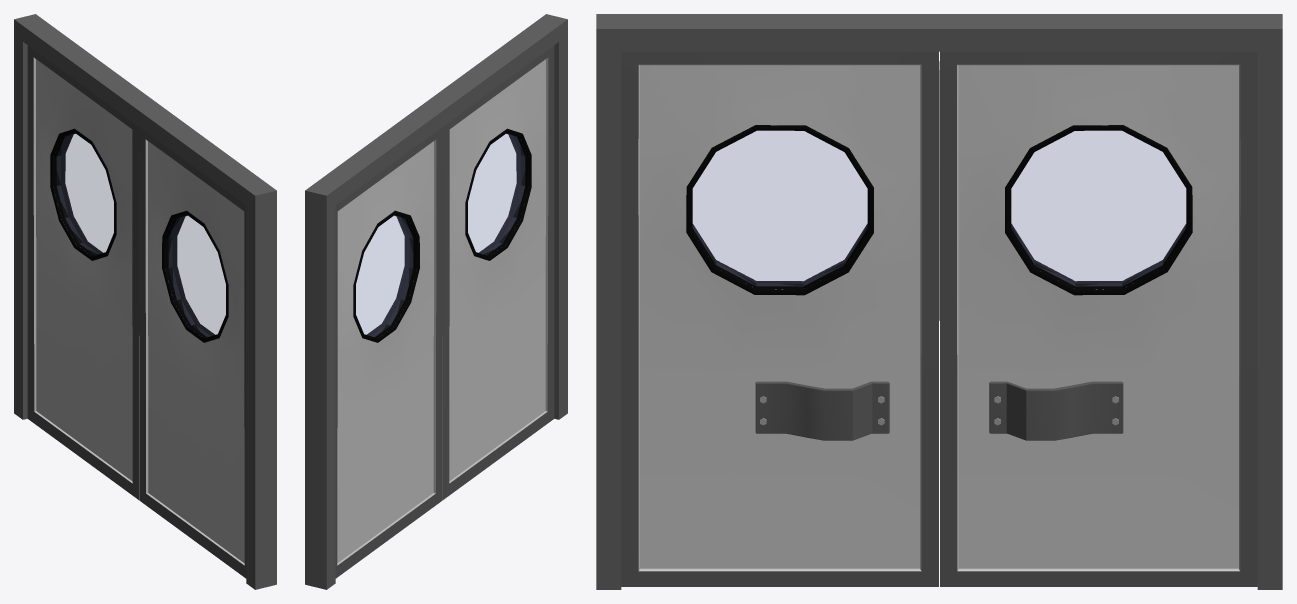
File: door.fbx
3 views of the same model, side by side, from view 1: azimuth 30°, elevation 25°; view 2: azimuth 150°, elevation 25°; view 3: azimuth 270°, elevation 25° (orthographic). The views are drawn at different scales.
Visible parts, largest first — view 1: kapı1, kapı2, cerceve; view 2: kapı2, kapı1, cerceve; view 3: kapı1, kapı2, cerceve.
Part boxes in pixels (left/top/right/bottom): kapı1: left=27, top=45, right=139, bottom=500; kapı2: left=139, top=127, right=246, bottom=578; cerceve: left=14, top=14, right=276, bottom=589; kapı2: left=442, top=45, right=554, bottom=500; kapı1: left=335, top=127, right=442, bottom=578; cerceve: left=305, top=14, right=567, bottom=589; kapı1: left=939, top=51, right=1257, bottom=586; kapı2: left=621, top=51, right=939, bottom=586; cerceve: left=596, top=14, right=1282, bottom=589.
Bounding box in the file's own units: 0.3593 × 4.95 × 5.49.
